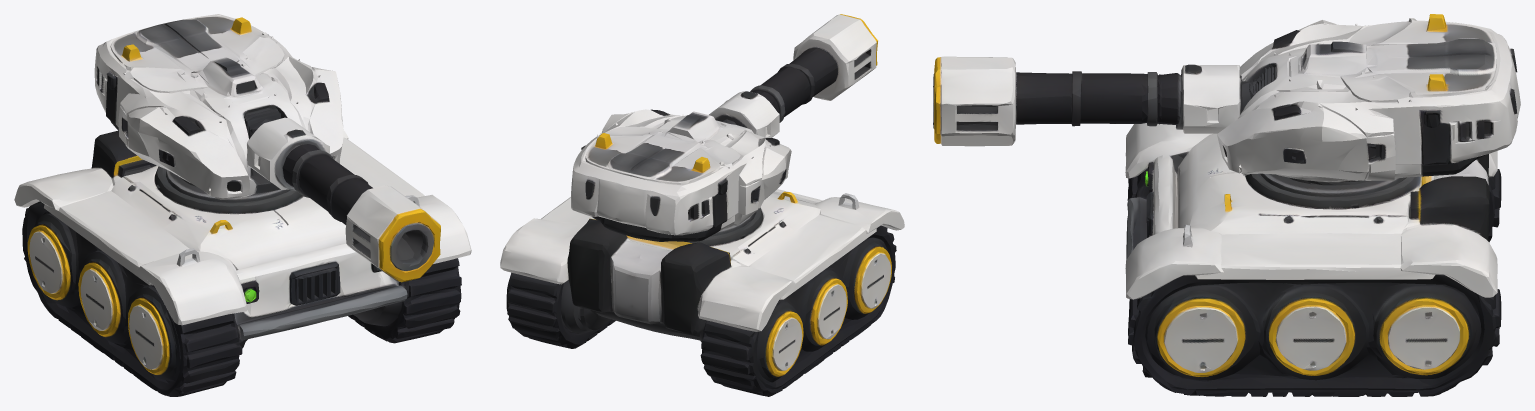
File: autocannon.glb
3 renders of one model, left to right at view 1: azimuth 30°, elevation 25°; view 2: azimuth 150°, elevation 25°; view 3: azimuth 270°, elevation 25°, orthographic. The views are drawn at different scales.
Visible parts, largest first — view 1: model; view 2: model; view 3: model.
Boxes of the visible parts, left/top/right/bottom form: model: left=14, top=14, right=471, bottom=396; model: left=500, top=14, right=904, bottom=396; model: left=933, top=14, right=1520, bottom=396.
Bounding box in the file's own units: 1.24 × 0.9986 × 1.9.
1 material, 1 textured.
